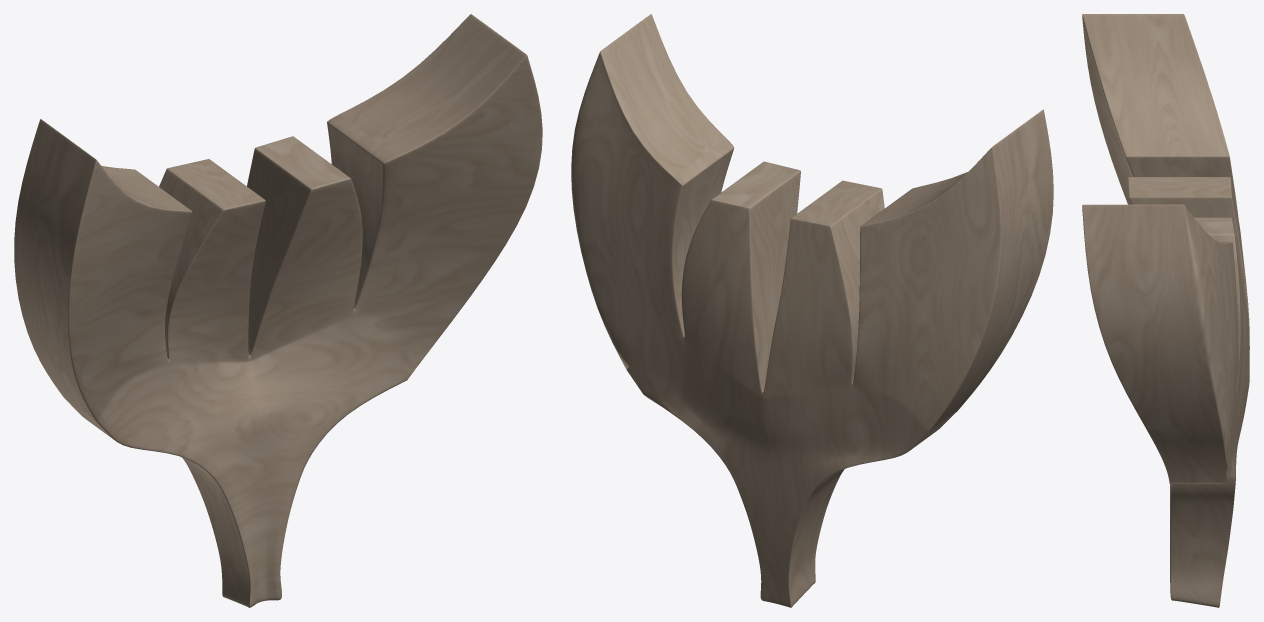
The model's file is base_masque_renard_.fbx.
The picture shows the model from 3 angles, left to right: view 1: azimuth 30°, elevation 25°; view 2: azimuth 150°, elevation 25°; view 3: azimuth 270°, elevation 25°; orthographic projection. The views are drawn at different scales.
Parts seen in each view (by area): view 1: base masque renard$; view 2: base masque renard$; view 3: base masque renard$.
Boxes of the visible parts, bbox=[...] form: base masque renard$: bbox=[14, 14, 542, 607]; base masque renard$: bbox=[571, 14, 1053, 607]; base masque renard$: bbox=[1082, 14, 1249, 607].
Bounding box in the file's own units: 485 × 535 × 165.
Materials: 1 (1 with a texture image).
